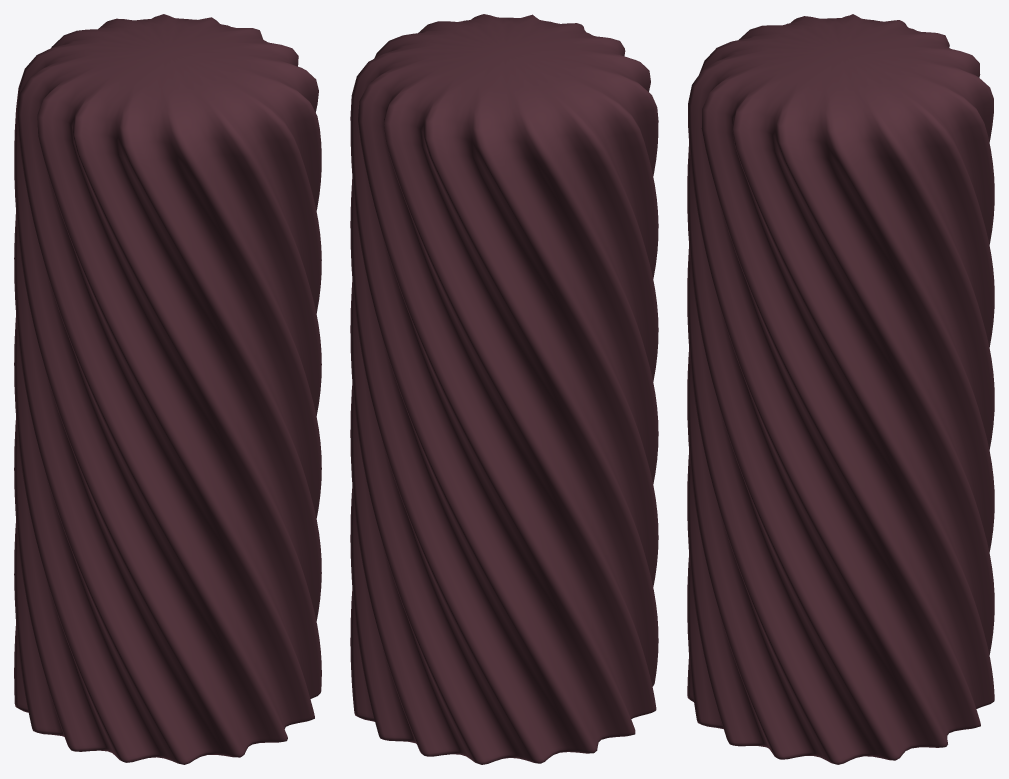
Rendered from Blacklicorice2.9.fbx.
3 renders of one model, left to right at view 1: azimuth 30°, elevation 25°; view 2: azimuth 150°, elevation 25°; view 3: azimuth 270°, elevation 25°, orthographic.
Parts seen in each view (by area): view 1: Circle; view 2: Circle; view 3: Circle.
Part boxes in pixels (x1=…): Circle: x1=14, y1=14, x2=321, y2=764; Circle: x1=350, y1=14, x2=658, y2=764; Circle: x1=687, y1=14, x2=994, y2=764.
Size of the model in its own units: 666 by 1569 by 666.
